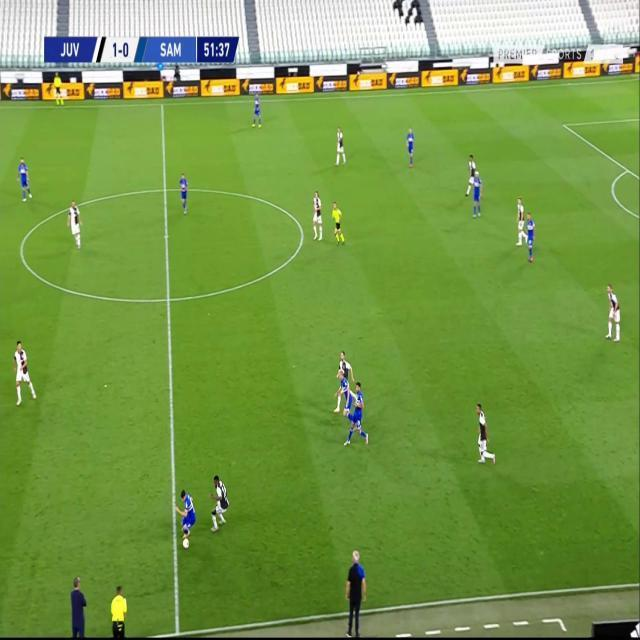ball: (182, 535, 190, 549)
player: (343, 377, 370, 449), (11, 336, 37, 407), (474, 400, 497, 470), (208, 472, 231, 533), (465, 153, 483, 221), (177, 487, 199, 542), (604, 281, 623, 342), (335, 353, 353, 416), (15, 156, 33, 202), (67, 200, 83, 251), (311, 189, 325, 242), (515, 195, 528, 249), (526, 211, 537, 263), (335, 124, 347, 166), (179, 171, 190, 215), (406, 126, 416, 168), (251, 95, 262, 128)
referee: (109, 580, 129, 638), (331, 199, 345, 246), (52, 70, 64, 104)
